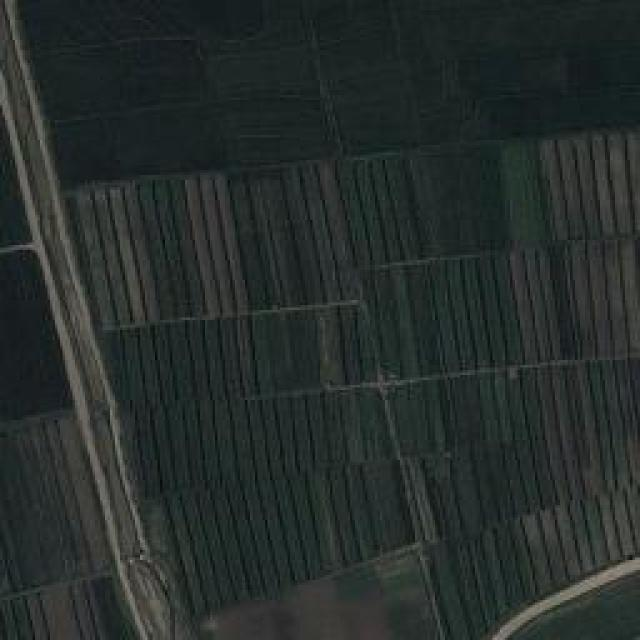Agriculture: (2, 1, 640, 639)
